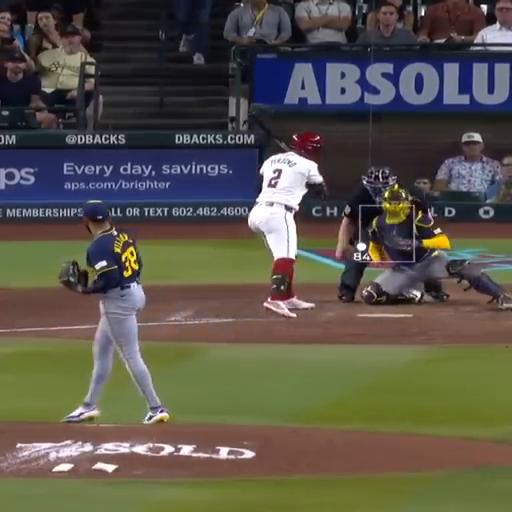bat: (248, 112, 290, 151)
